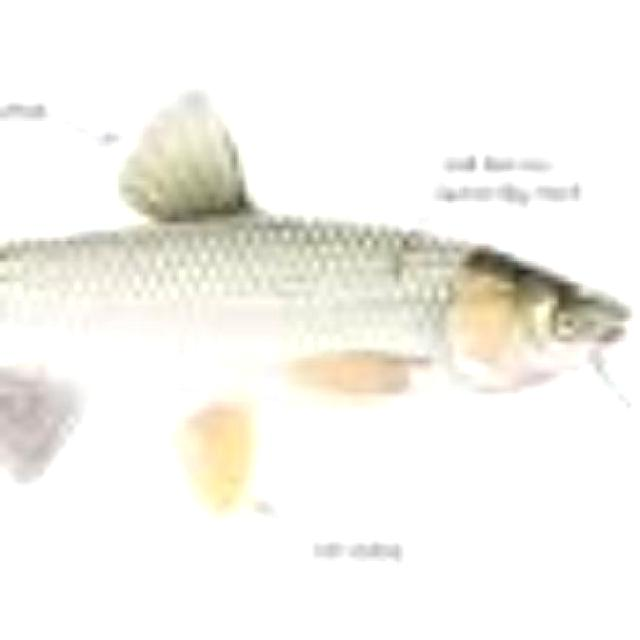ikan-mas: (0, 185, 618, 430)
